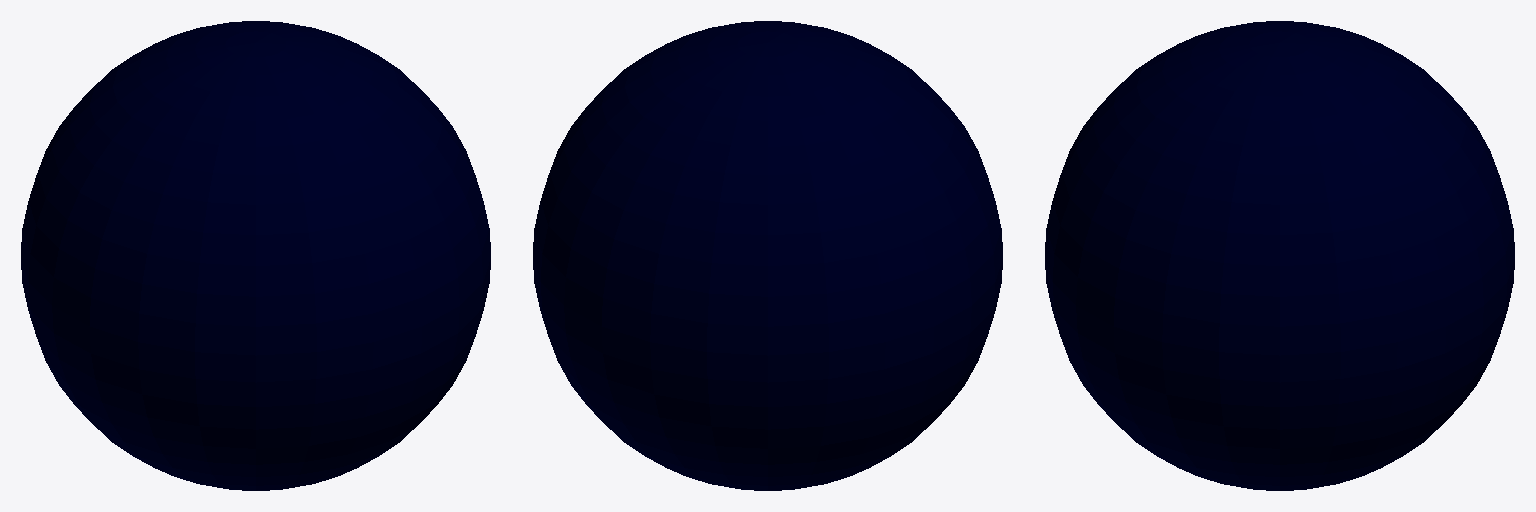
Rendered from sibenik-cathedral-vray.obj.
3 renders of one model, left to right at view 1: azimuth 30°, elevation 25°; view 2: azimuth 150°, elevation 25°; view 3: azimuth 270°, elevation 25°, orthographic.
Visible parts, largest first — view 1: Sphere; view 2: Sphere; view 3: Sphere.
Boxes of the visible parts, box(x1,y1,x2,y2) form: Sphere: box(21, 21, 490, 490); Sphere: box(533, 21, 1002, 490); Sphere: box(1045, 21, 1514, 490).
Bounding box in the file's own units: 200 × 200 × 200.